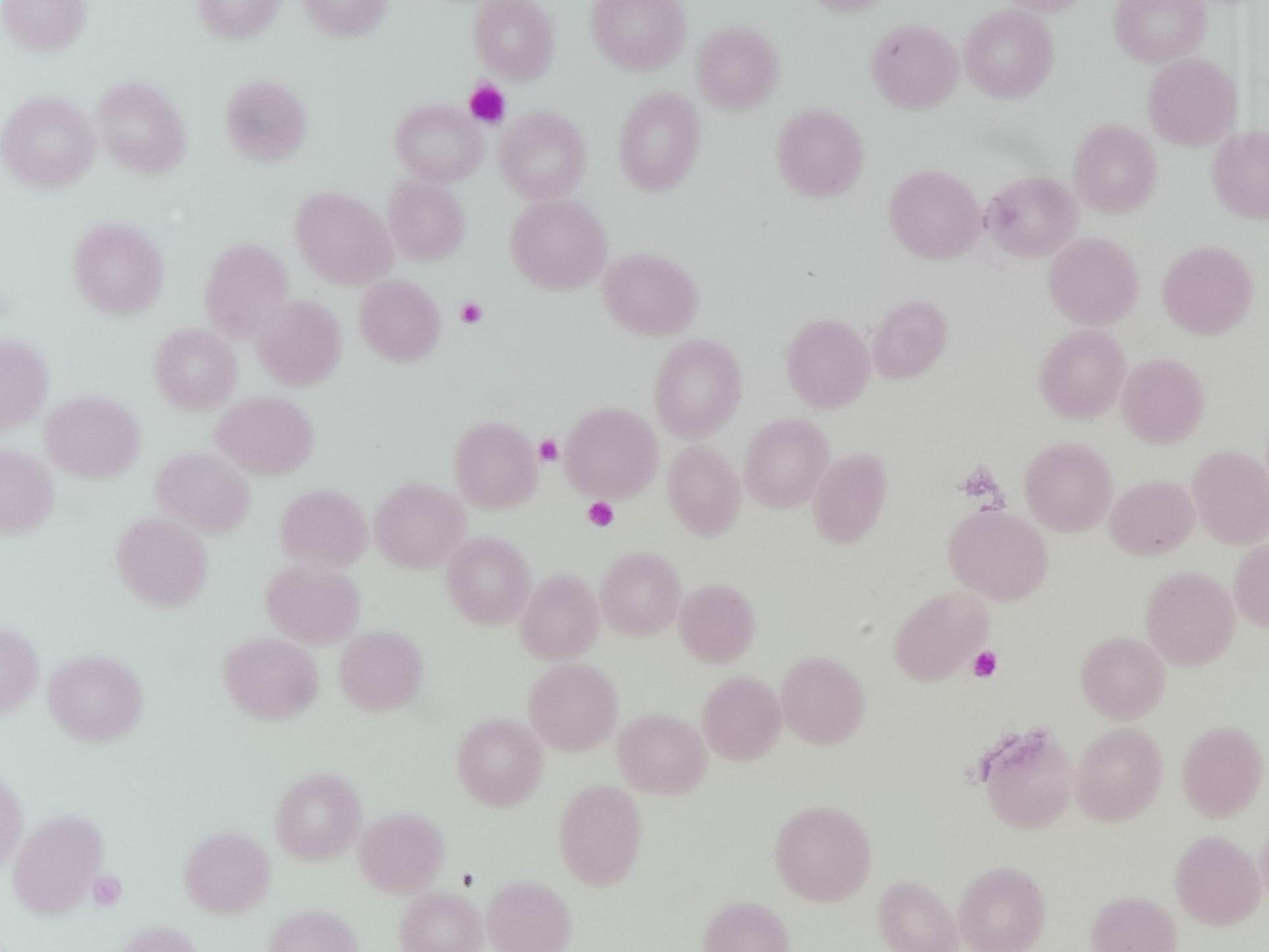Uninfected: (883, 221, 1010, 294), (63, 581, 191, 653), (464, 712, 590, 783), (376, 859, 504, 928), (599, 422, 723, 493), (85, 419, 222, 482), (49, 10, 179, 76), (880, 384, 1002, 454), (920, 666, 1041, 736), (682, 490, 810, 556), (553, 767, 677, 835), (172, 805, 301, 870), (359, 672, 475, 744), (814, 152, 942, 217), (999, 372, 1121, 440), (1013, 465, 1145, 527), (460, 85, 580, 153), (277, 37, 395, 106), (848, 55, 971, 121), (821, 872, 942, 939), (1137, 724, 1258, 790), (832, 786, 951, 853), (164, 738, 288, 802), (266, 397, 386, 463), (1017, 2, 1137, 68), (631, 160, 744, 230), (1004, 583, 1123, 649), (309, 167, 422, 236), (722, 589, 843, 653), (1038, 73, 1157, 138), (628, 35, 741, 103), (588, 556, 708, 620), (1073, 861, 1189, 927), (508, 279, 622, 346), (1122, 655, 1237, 721), (555, 116, 668, 183), (174, 886, 300, 946), (272, 585, 390, 649), (753, 191, 869, 256), (709, 780, 826, 844), (1, 716, 111, 784), (387, 387, 507, 449), (34, 883, 152, 946), (434, 334, 550, 398), (194, 342, 313, 404), (306, 811, 421, 875), (982, 805, 1100, 867), (404, 198, 513, 265), (828, 447, 928, 520), (76, 267, 188, 332), (526, 832, 638, 897), (925, 741, 1037, 806), (508, 209, 618, 275), (251, 525, 367, 586), (589, 340, 705, 401), (542, 608, 668, 664), (540, 894, 666, 950), (48, 137, 158, 201), (119, 205, 234, 266), (1120, 521, 1231, 584), (207, 463, 316, 527), (416, 449, 530, 510), (677, 841, 790, 902), (554, 501, 677, 557), (785, 268, 896, 330), (1053, 168, 1162, 230), (1173, 443, 1269, 513), (718, 114, 829, 174), (318, 254, 427, 315), (1159, 355, 1268, 416), (917, 289, 1026, 349), (1, 366, 95, 431), (383, 508, 493, 563), (762, 653, 868, 709), (1, 658, 92, 721), (0, 299, 79, 358)
